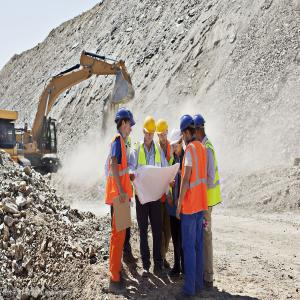blue: (114, 109, 132, 138), (180, 116, 196, 144), (193, 114, 207, 143)
white: (170, 127, 184, 157)
yellow: (144, 116, 158, 147), (156, 117, 170, 146)
